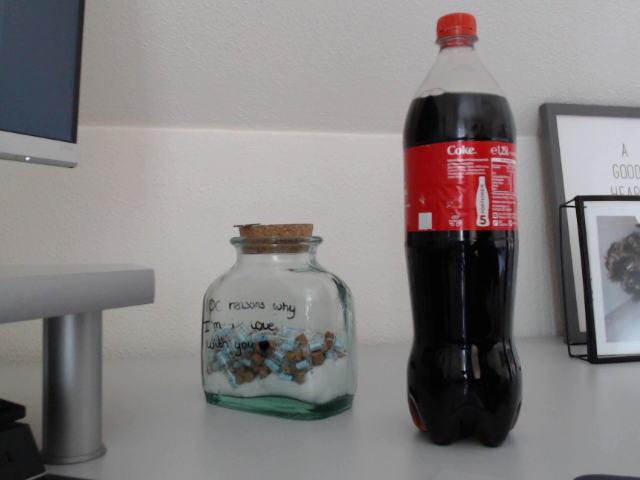bottle: (402, 12, 523, 448)
